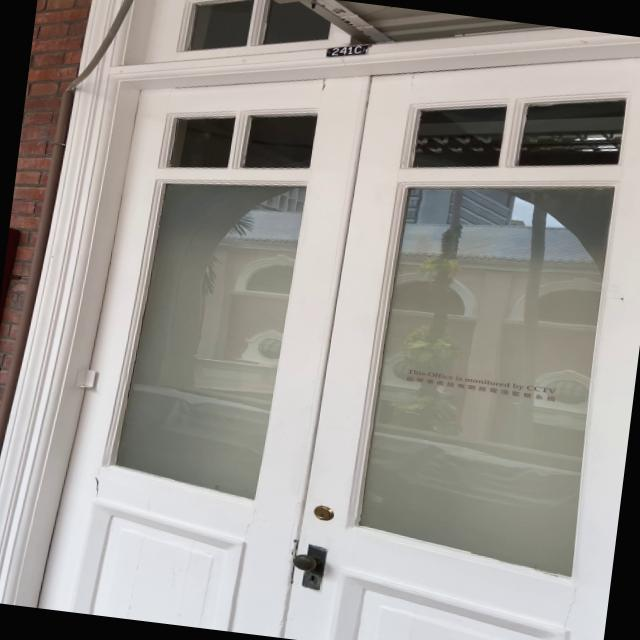room241c: (324, 37, 371, 63)
